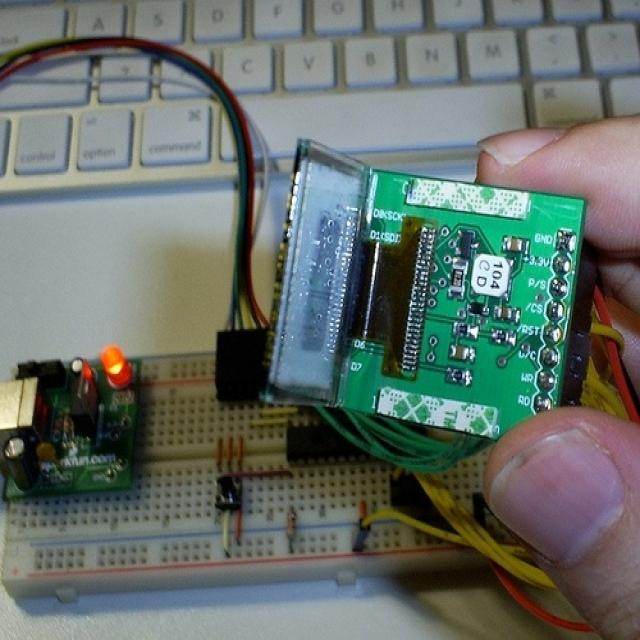E-waste: (8, 12, 612, 628)
